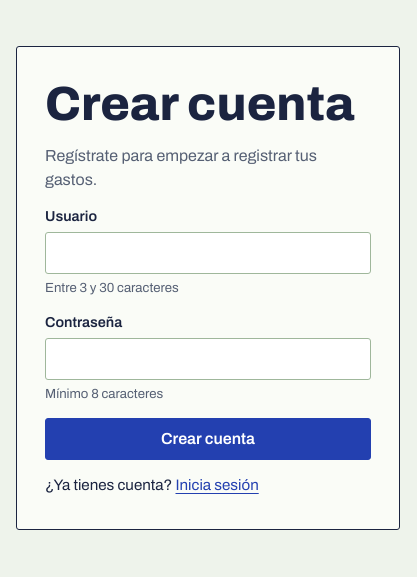
Register and login › shows the 409 of a repeated username
Type "ana" into the field labelled "Usuario" at coordinates (208, 253), box [45, 232, 371, 274]
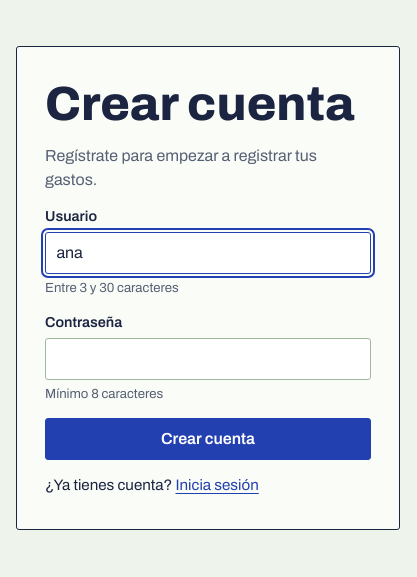
Type "secreto-123" into the password field labelled "Contraseña" at coordinates (208, 359), box [45, 338, 371, 380]
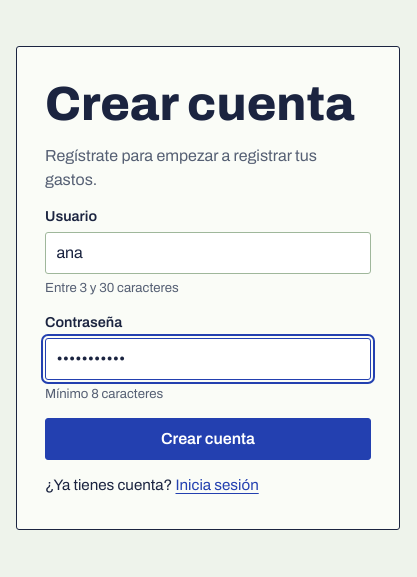
Click the button "Crear cuenta" at coordinates (208, 439), box [45, 418, 371, 460]
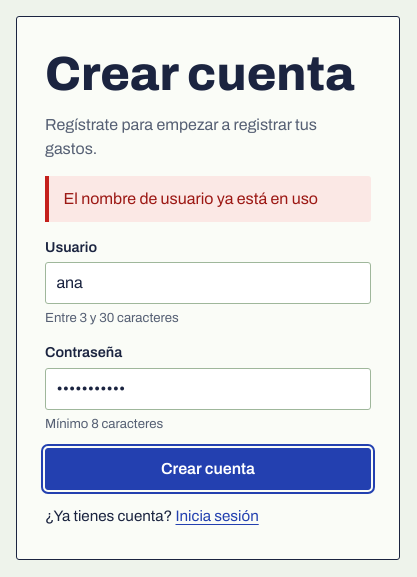
Check: the button "Crear cuenta" is shown, box [45, 448, 371, 490]
Check: the message reads "El nombre de usuario ya está en uso", box [63, 190, 318, 207]
